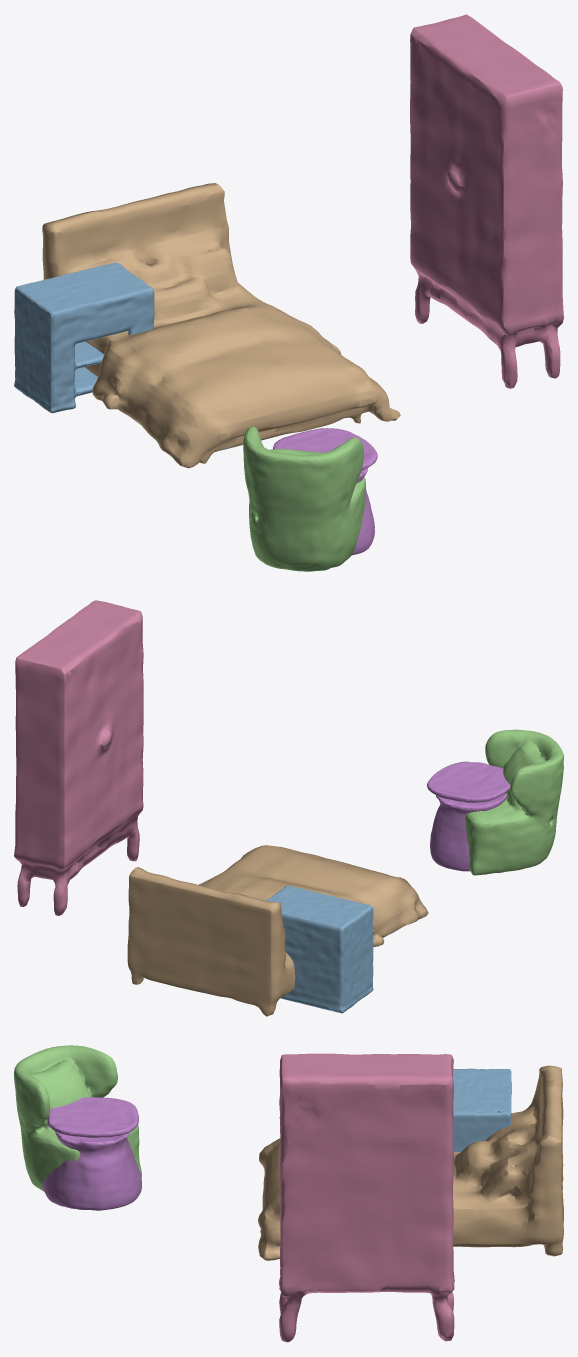
File: SecondBedroom-6482_echoscene.glb
3 renders of one model, top to bottom at view 1: azimuth 30°, elevation 25°; view 2: azimuth 150°, elevation 25°; view 3: azimuth 270°, elevation 25°, orthographic. The views are drawn at different scales.
Parts seen in each view (by area): view 1: world; view 2: world; view 3: world.
Part boxes in pixels (bbox=[...]): world: bbox=[14, 14, 563, 571]; world: bbox=[14, 600, 563, 1016]; world: bbox=[14, 1045, 563, 1342].
Bounding box in the file's own units: 3.44 × 2.25 × 4.2.
